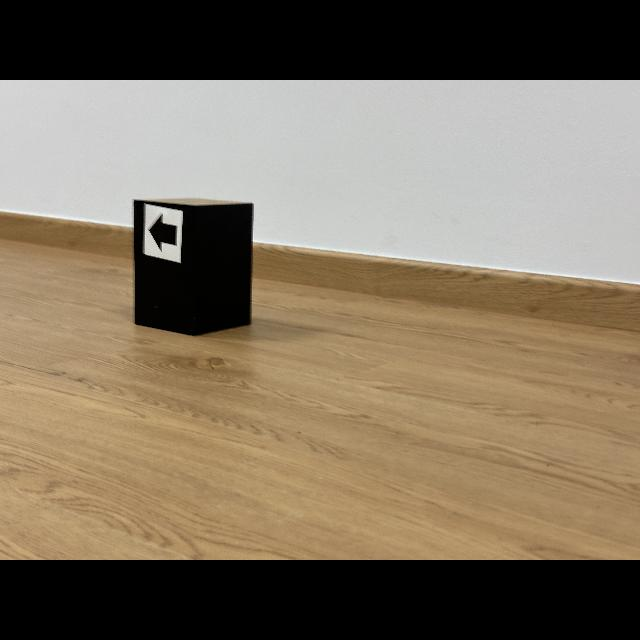LEFT: (149, 215, 178, 250)
